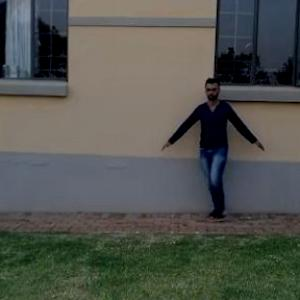land: (168, 79, 266, 230)
